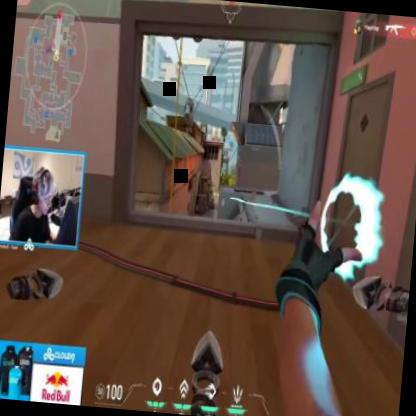enemy: (210, 192, 215, 208)
enemy_head: (212, 192, 214, 196)
